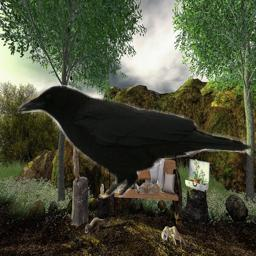Crow: (12, 79, 251, 198)
